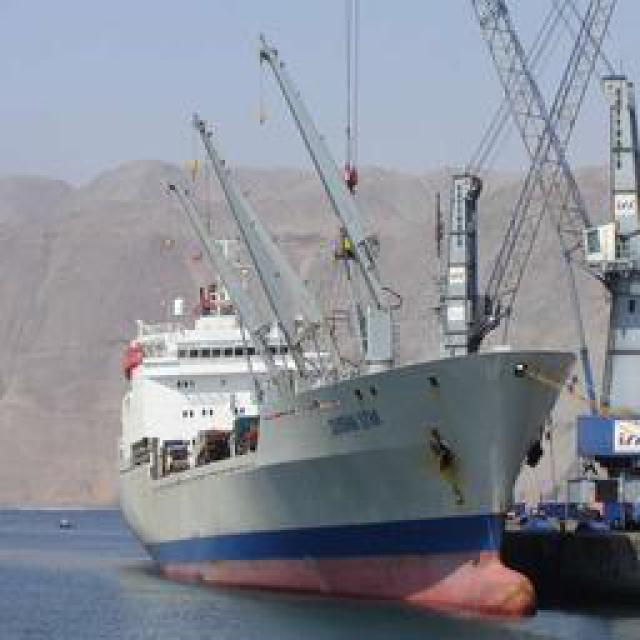Ship: (113, 69, 601, 604)
